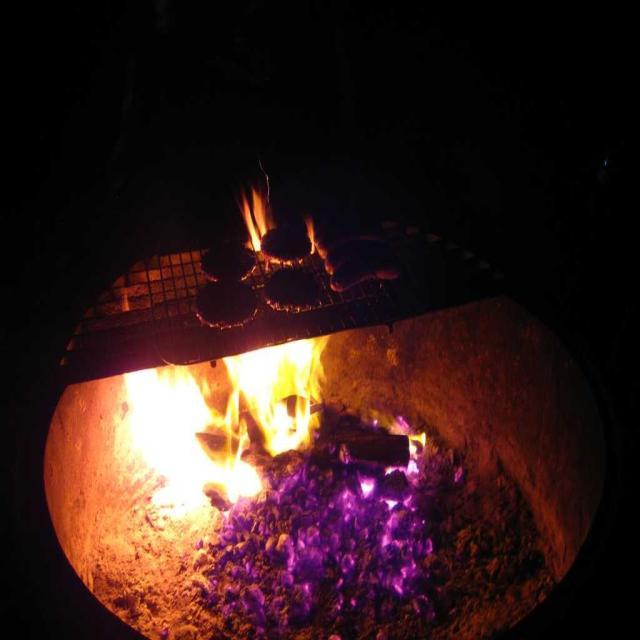Fire: (125, 380, 193, 482), (250, 345, 319, 410)
